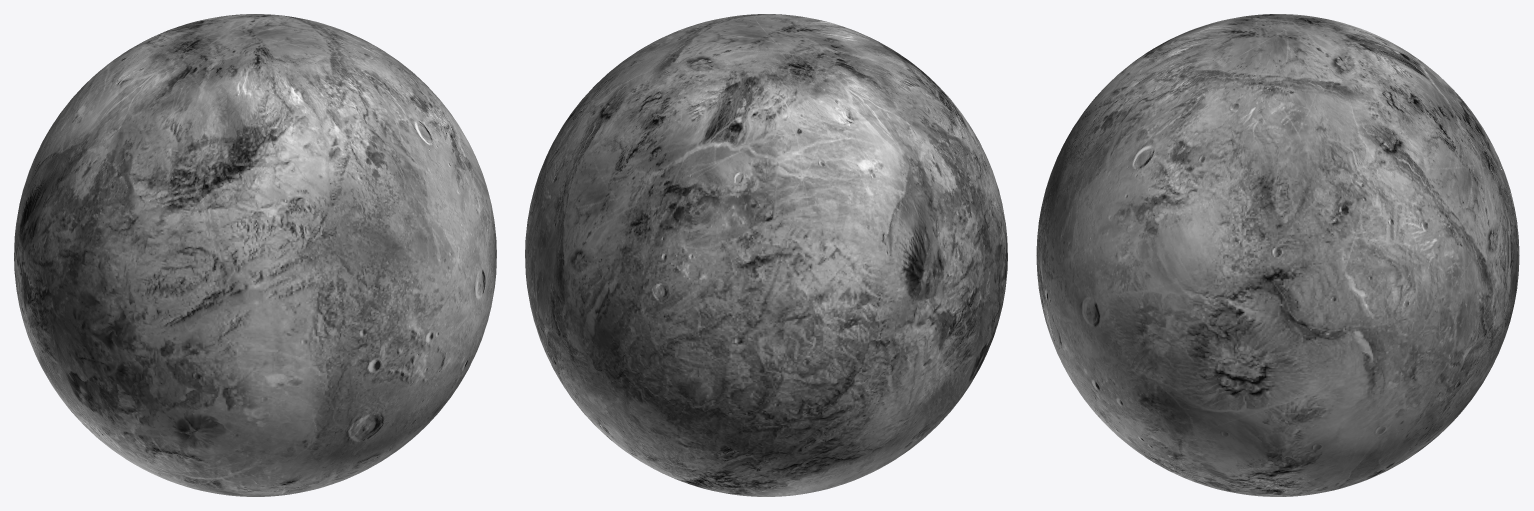
Rendered from haumea_2.glb.
3 views of the same model, side by side, from view 1: azimuth 30°, elevation 25°; view 2: azimuth 150°, elevation 25°; view 3: azimuth 270°, elevation 25° (orthographic).
Visible parts, largest first — view 1: Sphere; view 2: Sphere; view 3: Sphere.
Part boxes in pixels (x1,y1,x2,y2): Sphere: (14, 14, 496, 496); Sphere: (525, 14, 1007, 496); Sphere: (1036, 14, 1519, 496).
Bounding box in the file's own units: 8.43 × 8.43 × 8.43.
Materials: 1 (1 with a texture image).
